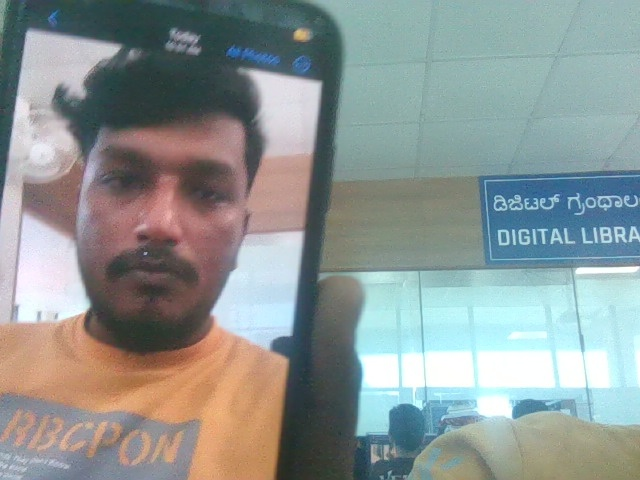fake: (51, 27, 279, 350)
